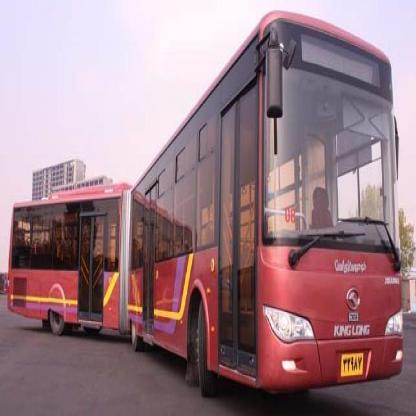Bus: (6, 3, 404, 407)
